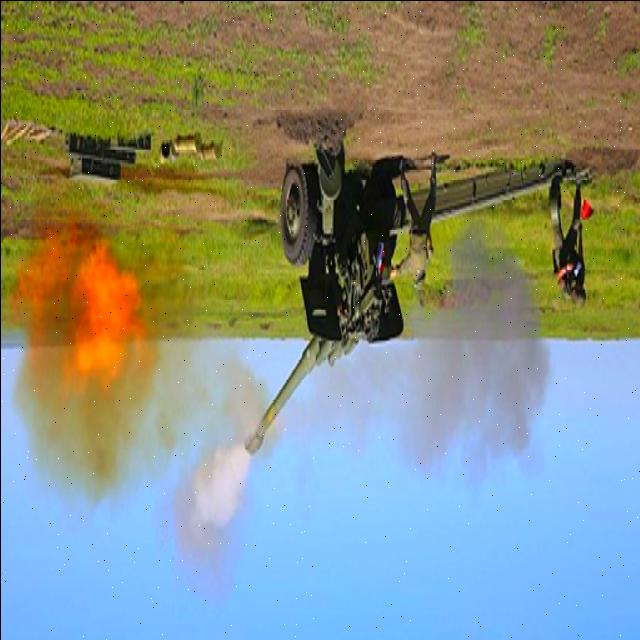ART: (238, 132, 598, 466)
